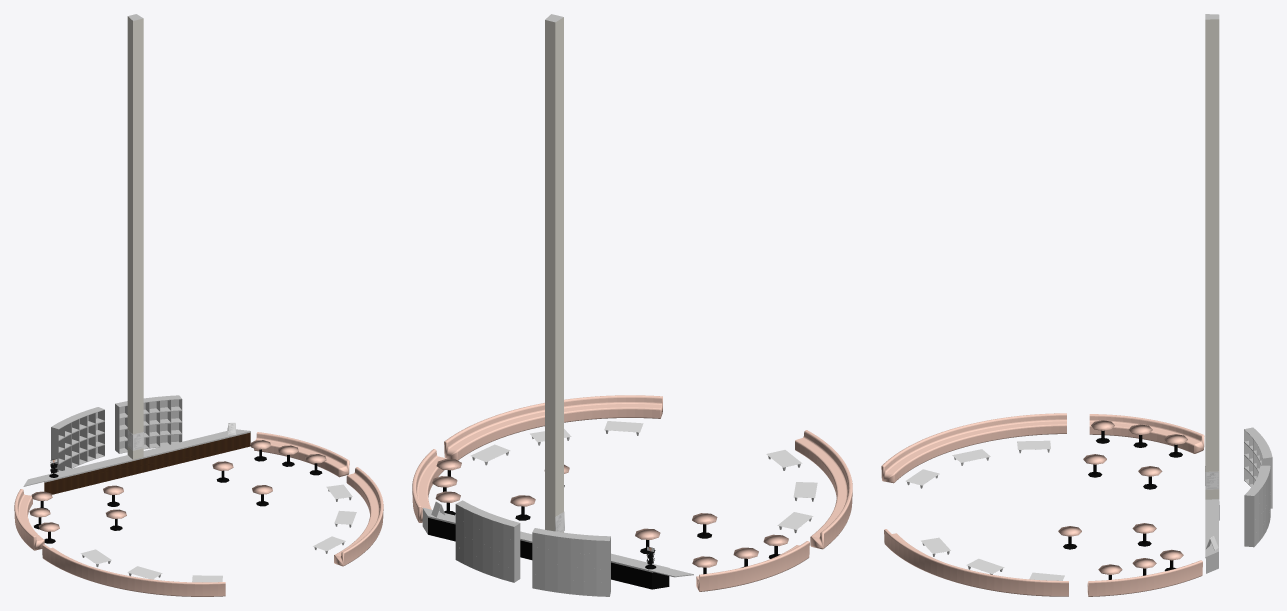
Rendered from restaurant complete.fbx.
The picture shows the model from 3 angles, left to right: view 1: azimuth 30°, elevation 25°; view 2: azimuth 150°, elevation 25°; view 3: azimuth 270°, elevation 25°; orthographic projection. The views are drawn at different scales.
Visible parts, largest first — view 1: Cube.006, Cube.003, Cube.022, Cube.009, Cube.008, Cube.021, Cube, Cube.018, Cube.020; view 2: Cube.006, Cube.021, Cube.009, Cube.008, Cube.022, Cube.020, Cube.004, Cube, Cube.018; view 3: Cube.006, Cube.022, Cube.021, Cube.020, Cube.018, Cube.008, Cube.009, Cube.
Part boxes in pixels (left/top/right/bottom): Cube.006: left=127, top=16, right=143, bottom=459; Cube.003: left=44, top=432, right=250, bottom=494; Cube.022: left=42, top=544, right=225, bottom=596; Cube.009: left=51, top=407, right=104, bottom=473; Cube.008: left=115, top=395, right=182, bottom=453; Cube.021: left=334, top=467, right=383, bottom=566; Cube: left=23, top=14, right=250, bottom=486; Cube.018: left=254, top=432, right=349, bottom=477; Cube.020: left=14, top=489, right=44, bottom=550; Cube.006: left=545, top=17, right=563, bottom=532; Cube.021: left=444, top=395, right=662, bottom=460; Cube.009: left=532, top=528, right=610, bottom=596; Cube.008: left=455, top=500, right=520, bottom=582; Cube.022: left=795, top=430, right=852, bottom=549; Cube.020: left=696, top=541, right=809, bottom=591; Cube.004: left=428, top=518, right=669, bottom=589; Cube: left=422, top=14, right=693, bottom=577; Cube.018: left=412, top=449, right=446, bottom=522; Cube.006: left=1205, top=19, right=1219, bottom=499; Cube.022: left=881, top=413, right=1066, bottom=483; Cube.021: left=884, top=529, right=1068, bottom=596; Cube.020: left=1089, top=414, right=1204, bottom=453; Cube.018: left=1087, top=560, right=1202, bottom=596; Cube.008: left=1244, top=465, right=1270, bottom=547; Cube.009: left=1244, top=427, right=1272, bottom=508; Cube: left=1205, top=14, right=1219, bottom=573.
Bounding box in the file's own units: 1468 × 2010 × 1434.
